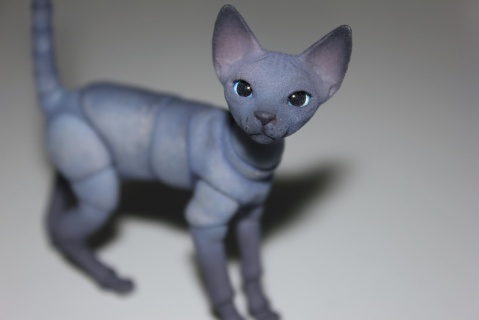Cat: (29, 0, 353, 319)
